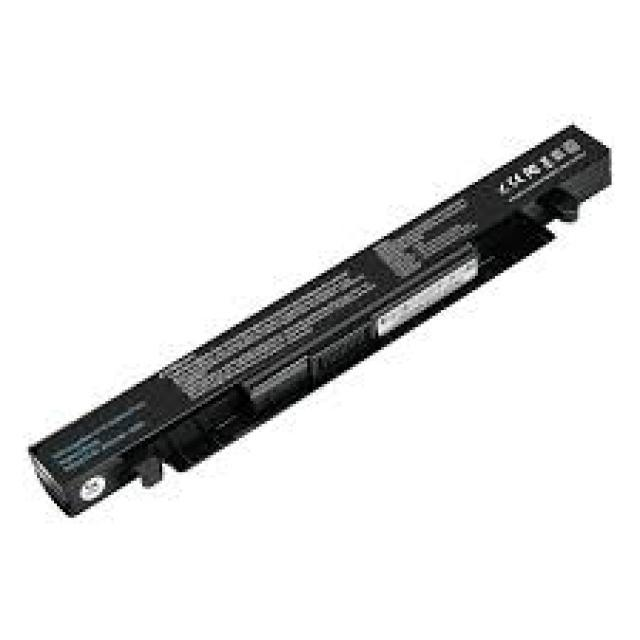battery: (26, 121, 612, 518)
